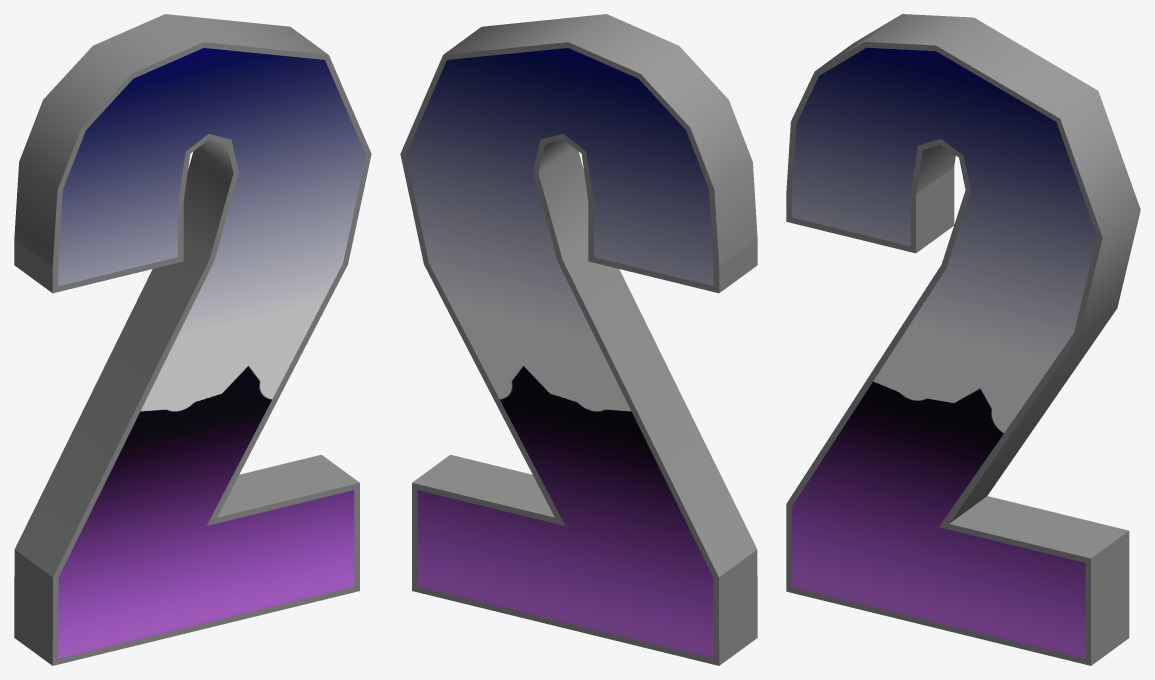
3 renders of one model, left to right at view 1: azimuth 30°, elevation 25°; view 2: azimuth 150°, elevation 25°; view 3: azimuth 330°, elevation 25°, orthographic.
Parts seen in each view (by area): view 1: 2, 2_outline; view 2: 2, 2_outline; view 3: 2, 2_outline.
Boxes of the visible parts, left/top/right/bottom form: 2: left=58, top=48, right=365, bottom=658; 2_outline: left=14, top=14, right=371, bottom=665; 2: left=406, top=48, right=713, bottom=658; 2_outline: left=400, top=14, right=757, bottom=665; 2: left=791, top=47, right=1096, bottom=658; 2_outline: left=786, top=14, right=1140, bottom=665.
Bounding box in the file's own units: 57.5 × 101 × 12.
2 materials, 1 textured.
